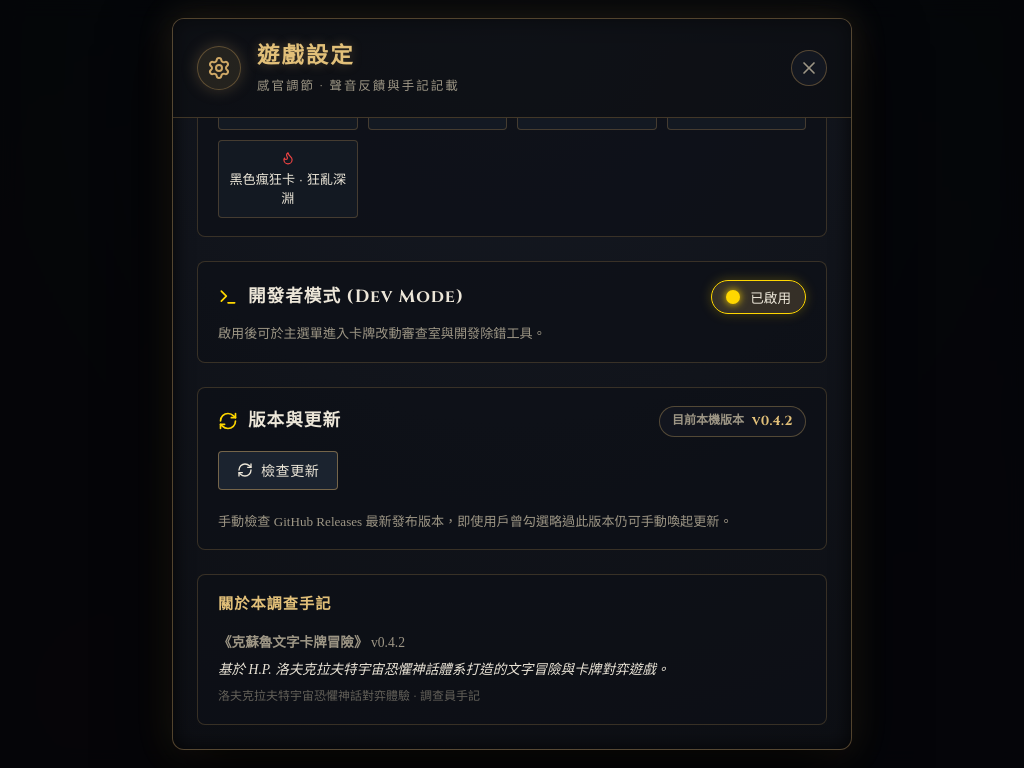
Test case: SettingsModal - Version & Manual Update Check (ADR-0040 / #74) › displays "目前已是最新版本" when manual check reports no updates
(page scrolled)
Step 1. Click the button "檢查更新" → (278, 470), box 218,450 -> 338,490
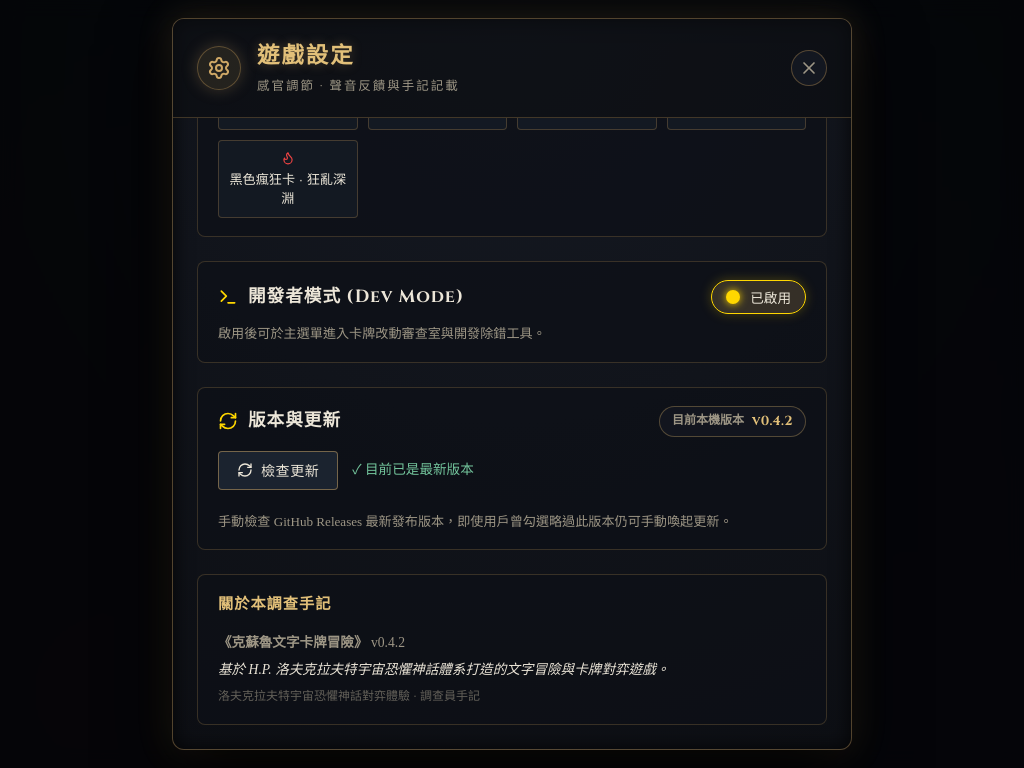
Expected: the text "✓ 目前已是最新版本" is shown, 352,459 -> 474,481
